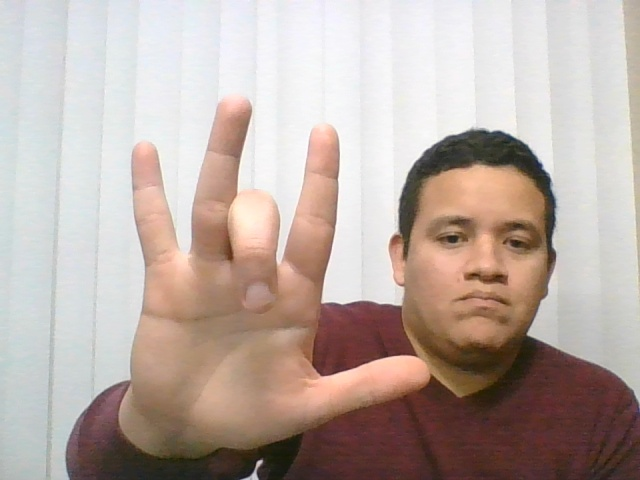Eight: (79, 85, 453, 461)
